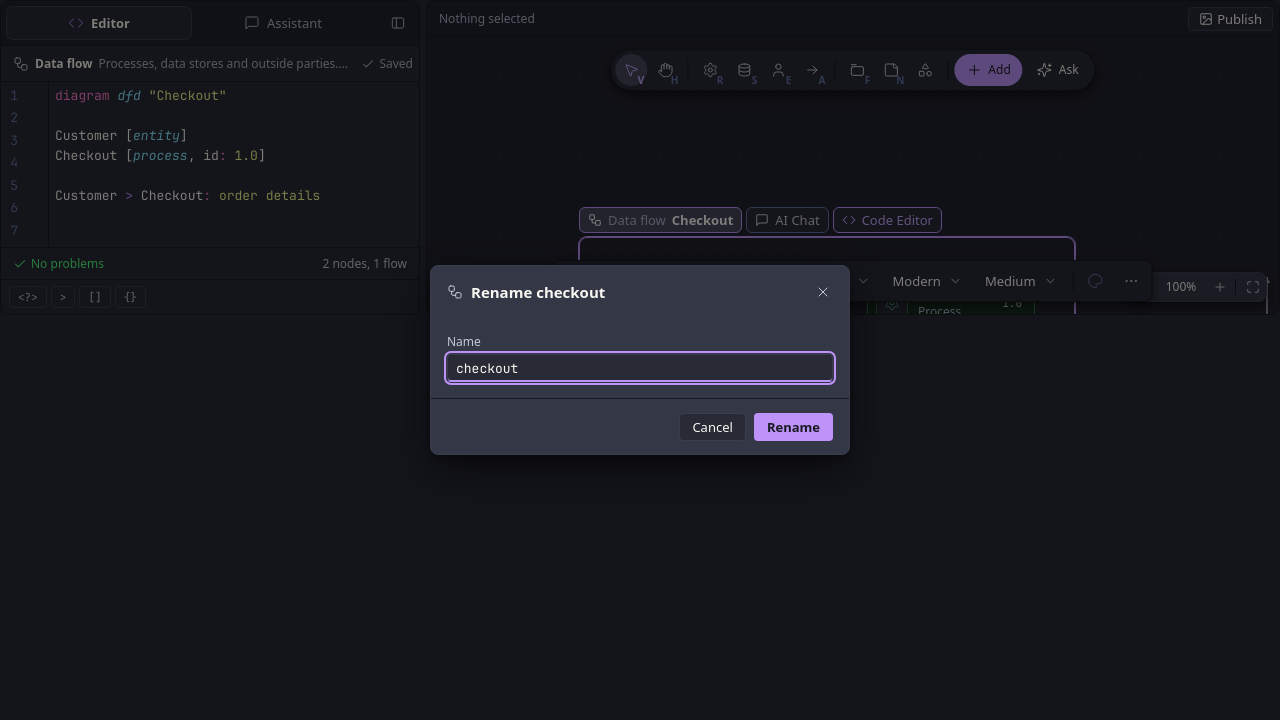
Test: the_text_is_read_only_while_a_rename_runs
Replace the text in the field labelled "Name" with "payments". click: (640, 368)
box: [447,354,833,382]
Then press Enter
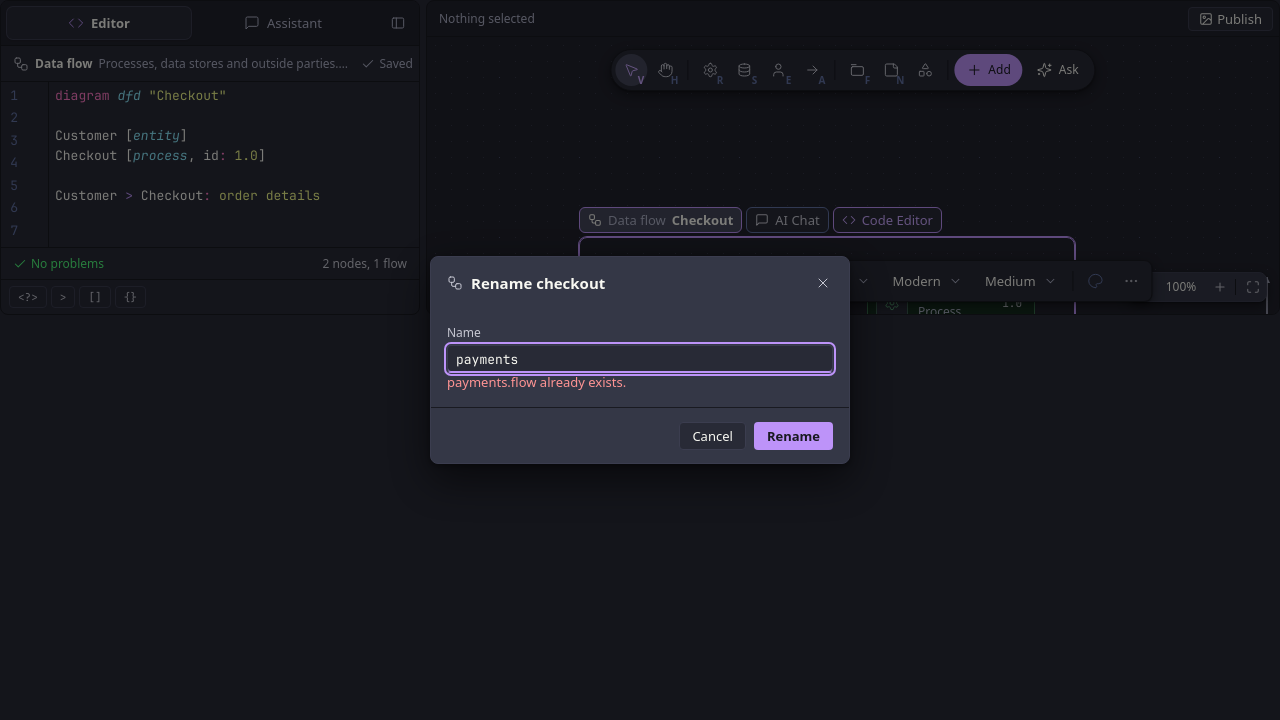
Expected: the text "payments.flow already exists." is shown, [447,373,626,391]
